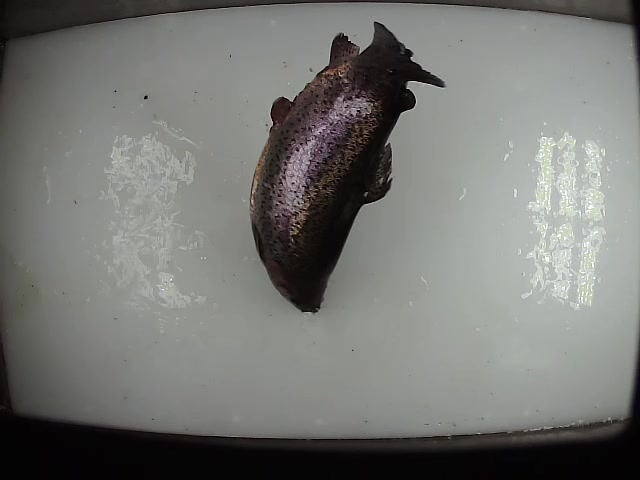fish: (246, 19, 447, 315)
